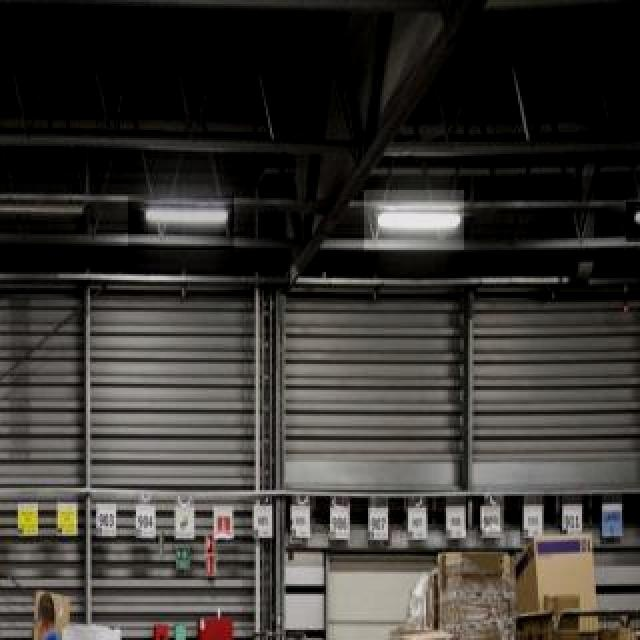fluorescent tube: (115, 194, 237, 234), (364, 196, 469, 242)
